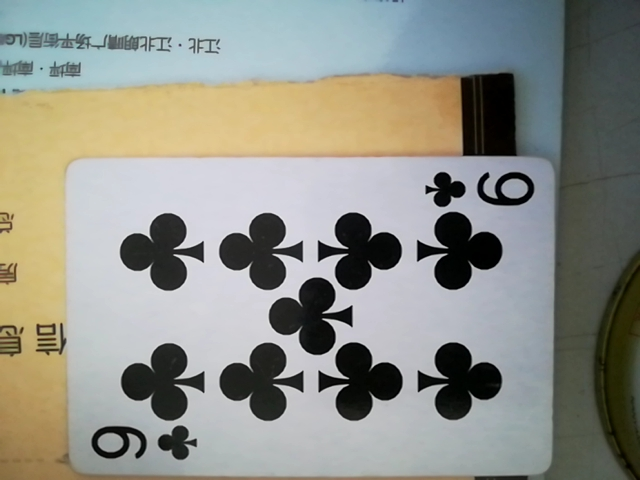mh 9: (60, 157, 557, 480)
